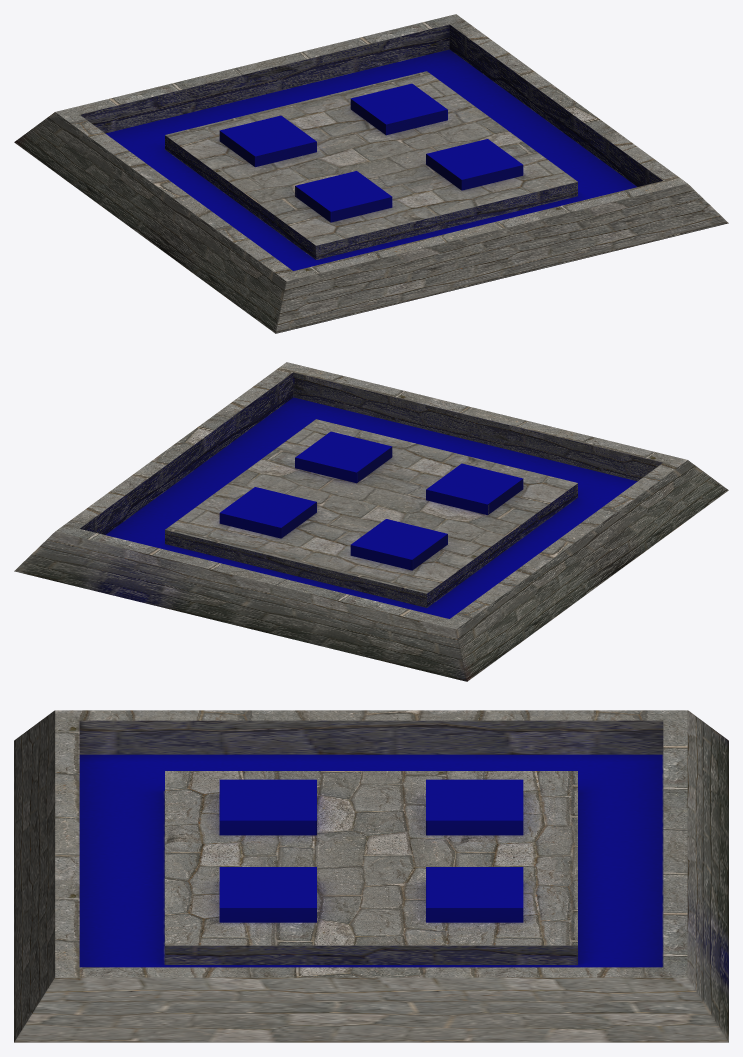
Rendered from blue_villa.gltf.
3 views of the same model, one above another, from view 1: azimuth 30°, elevation 25°; view 2: azimuth 150°, elevation 25°; view 3: azimuth 270°, elevation 25° (orthographic). The views are drawn at different scales.
Visible parts, largest first — view 1: blue_villa_lp; view 2: blue_villa_lp; view 3: blue_villa_lp.
Part boxes in pixels (box(x1,y1,x2,y2)): blue_villa_lp: box(14, 14, 728, 333); blue_villa_lp: box(14, 362, 728, 681); blue_villa_lp: box(14, 710, 728, 1042).
Bounding box in the file's own units: 12.09 × 0.895 × 12.09.
1 material, 1 textured.
